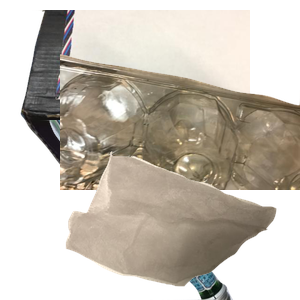cardboard: (18, 10, 258, 171)
glass: (37, 120, 262, 300)
plastic: (60, 52, 300, 232)
trash: (63, 149, 300, 300)
